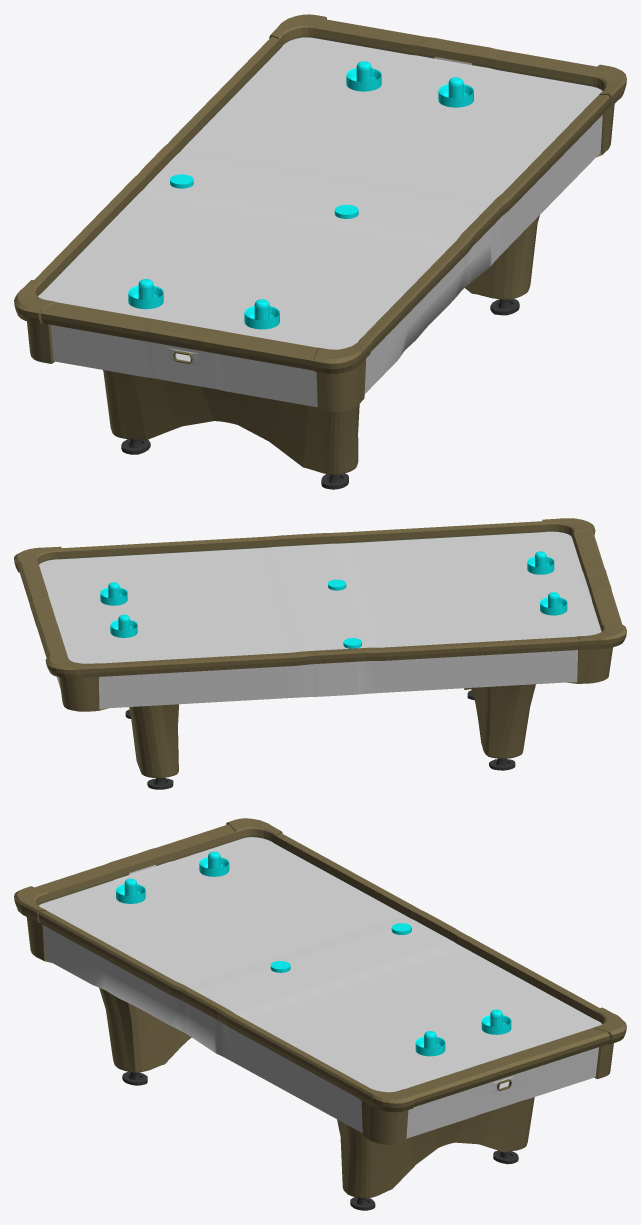
File: hockey.fbx
3 renders of one model, top to bottom at view 1: azimuth 30°, elevation 25°; view 2: azimuth 150°, elevation 25°; view 3: azimuth 270°, elevation 25°, orthographic. The views are drawn at different scales.
Visible parts, largest first — view 1: group3_polySurface1; view 2: group3_polySurface1; view 3: group3_polySurface1.
Part boxes in pixels (bbox=[...]): group3_polySurface1: bbox=[14, 14, 626, 489]; group3_polySurface1: bbox=[14, 518, 626, 789]; group3_polySurface1: bbox=[14, 818, 626, 1210].
Bounding box in the file's own units: 2.75 × 0.761 × 2.5.
